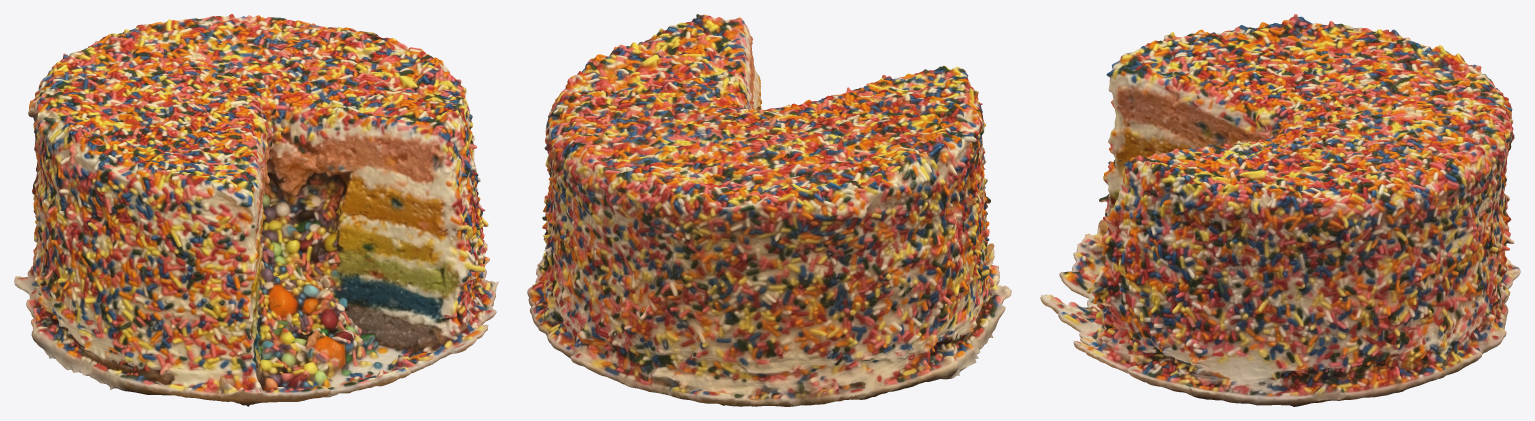
Rendered from birthday-cake.v1.glb.
3 views of the same model, side by side, from view 1: azimuth 30°, elevation 25°; view 2: azimuth 150°, elevation 25°; view 3: azimuth 270°, elevation 25° (orthographic). The views are drawn at different scales.
Visible parts, largest first — view 1: Object_2; view 2: Object_2; view 3: Object_2.
Part boxes in pixels (bbox=[...]): Object_2: bbox=[14, 14, 498, 406]; Object_2: bbox=[527, 14, 1011, 406]; Object_2: bbox=[1040, 14, 1520, 406].
Size of the model in its own units: 3.7 by 1.96 by 3.81.
Materials: 1 (1 with a texture image).
